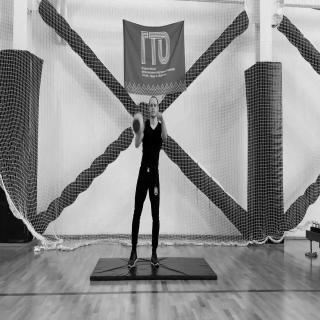kettlebell: (134, 112, 146, 137)
